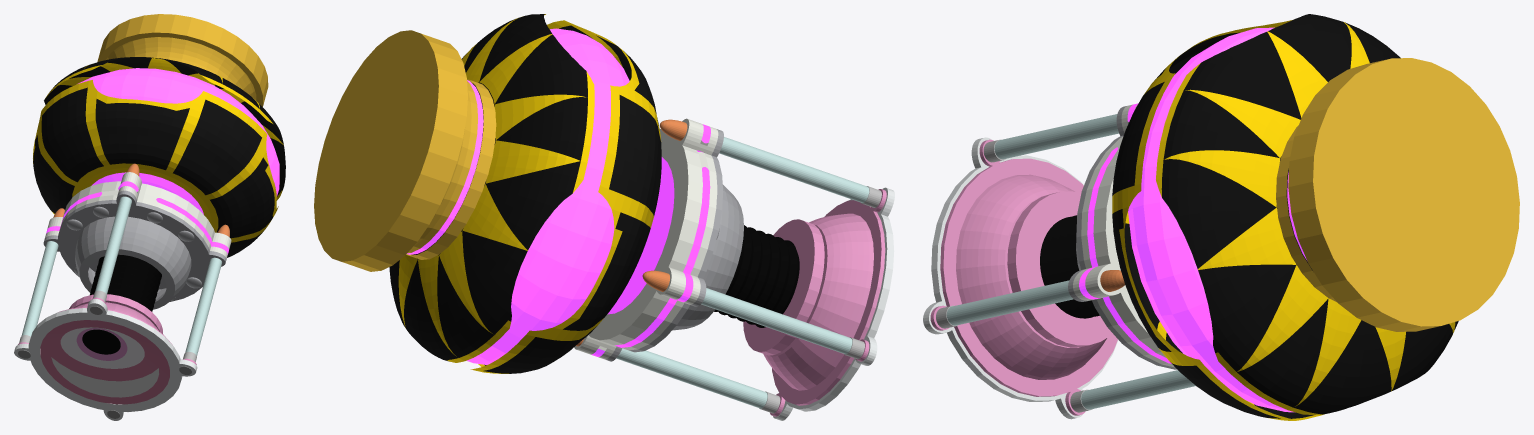
File: Absorbing Jar.fbx
3 renders of one model, left to right at view 1: azimuth 30°, elevation 25°; view 2: azimuth 150°, elevation 25°; view 3: azimuth 270°, elevation 25°, orthographic. The views are drawn at different scales.
Parts seen in each view (by area): view 1: Jar Under, Cylinder.003, Electric Ball, Base/Face, Cylinder.012, Face, Back Face, Jar Upper, Connection, Cone, Pump, Teeth (+9 smaller); view 2: Jar Upper, Cylinder.012, Electric Ball, Jar Under, Connection, Base, Pump, Cylinder, Face Back, Cylinder.003, Pillar Base 1, Pillar Base 4 (+6 smaller); view 3: Jar Upper, Cylinder.012, Electric Ball, Base, Jar Under, Face Back, Connection, Cylinder, Base/Face, Pump, Pillar Base 4, Pillar Base 3 (+3 smaller).
Part boxes in pixels (x1,y1,x2,y2): Jar Under: [33, 80, 278, 257]; Cylinder.003: [75, 216, 191, 309]; Electric Ball: [78, 68, 279, 214]; Base/Face: [14, 299, 197, 420]; Cylinder.012: [97, 14, 268, 106]; Face: [40, 320, 169, 404]; Back Face: [43, 190, 226, 301]; Jar Upper: [44, 57, 285, 200]; Connection: [45, 172, 231, 259]; Cone: [106, 37, 256, 100]; Pump: [90, 254, 161, 311]; Teeth: [51, 357, 158, 397]; Jar Upper: [389, 14, 594, 362]; Cylinder.012: [314, 30, 467, 271]; Electric Ball: [466, 28, 629, 364]; Jar Under: [470, 20, 661, 373]; Connection: [574, 118, 718, 359]; Base: [763, 213, 873, 390]; Pump: [714, 225, 799, 327]; Cylinder: [743, 219, 824, 355]; Face Back: [772, 200, 885, 405]; Cylinder.003: [672, 184, 743, 330]; Pillar Base 1: [701, 288, 852, 354]; Pillar Base 4: [719, 137, 869, 202]; Jar Upper: [1156, 14, 1458, 414]; Cylinder.012: [1288, 58, 1519, 331]; Electric Ball: [1128, 27, 1294, 412]; Base: [956, 174, 1106, 379]; Jar Under: [1112, 20, 1323, 420]; Face Back: [940, 158, 1117, 396]; Connection: [1073, 103, 1174, 367]; Cylinder: [1007, 191, 1112, 347]; Base/Face: [923, 137, 1118, 419]; Pump: [1040, 215, 1099, 318]; Pillar Base 4: [994, 114, 1118, 159]; Pillar Base 3: [946, 280, 1073, 325].
Bounding box in the file's own units: 9003 × 8039 × 9170.
